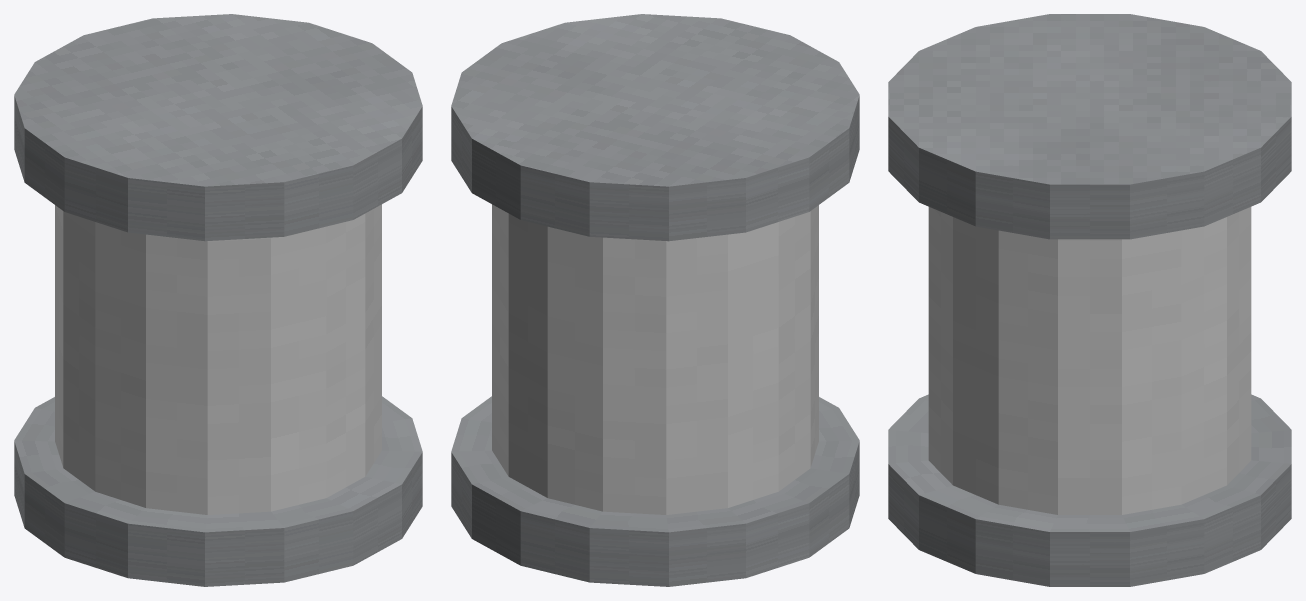
File: connection_0.obj
3 renders of one model, left to right at view 1: azimuth 30°, elevation 25°; view 2: azimuth 150°, elevation 25°; view 3: azimuth 270°, elevation 25°, orthographic.
Size of the model in its own units: 0.625 by 0.6875 by 0.625.
